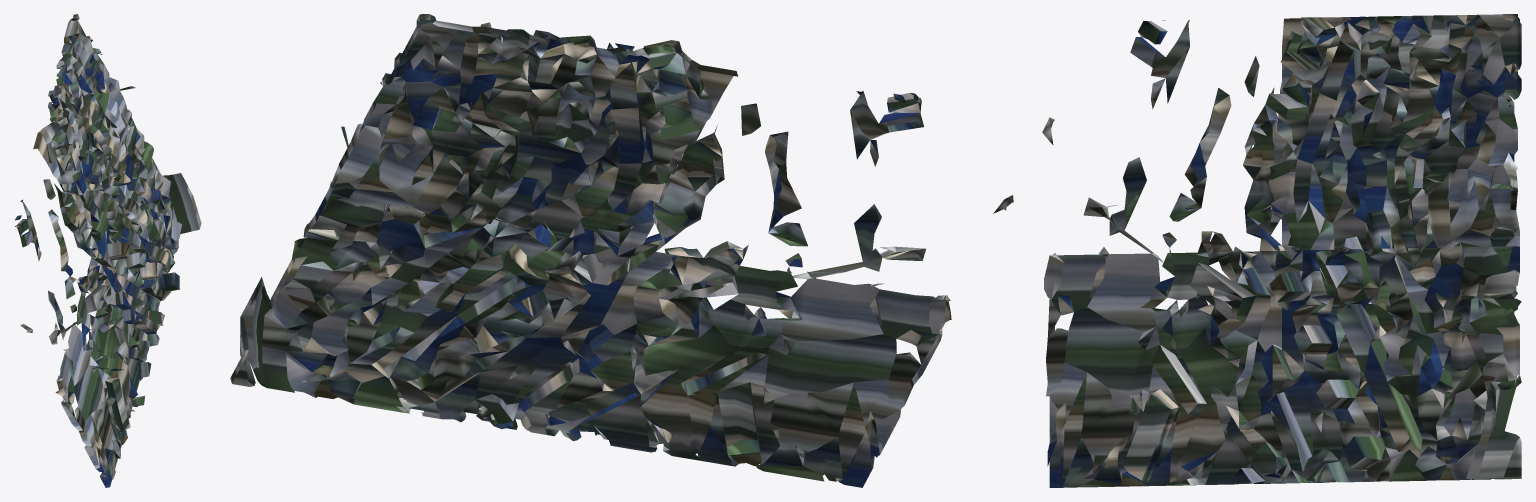
3 views of the same model, side by side, from view 1: azimuth 30°, elevation 25°; view 2: azimuth 150°, elevation 25°; view 3: azimuth 270°, elevation 25° (orthographic). The views are drawn at different scales.
Parts seen in each view (by area): view 1: node_3043627270436172_mesh0; view 2: node_3043627270436172_mesh0; view 3: node_3043627270436172_mesh0.
Boxes of the visible parts, x1,y1,x2,y2 form: node_3043627270436172_mesh0: (15, 14, 201, 487); node_3043627270436172_mesh0: (230, 14, 1013, 487); node_3043627270436172_mesh0: (1042, 14, 1521, 487).
Bounding box in the file's own units: 551 × 583 × 450.
1 material, 1 textured.
